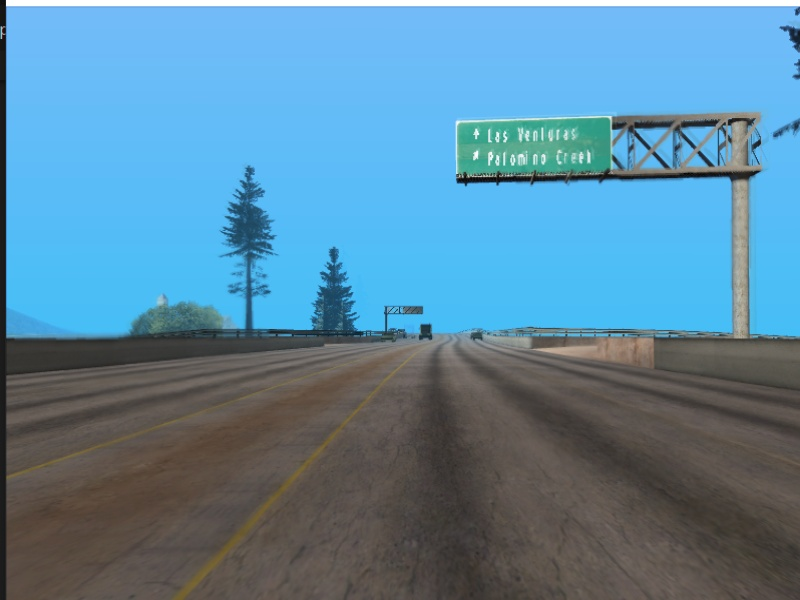vehicle: (418, 320, 435, 342), (383, 327, 398, 343), (470, 329, 484, 342)
